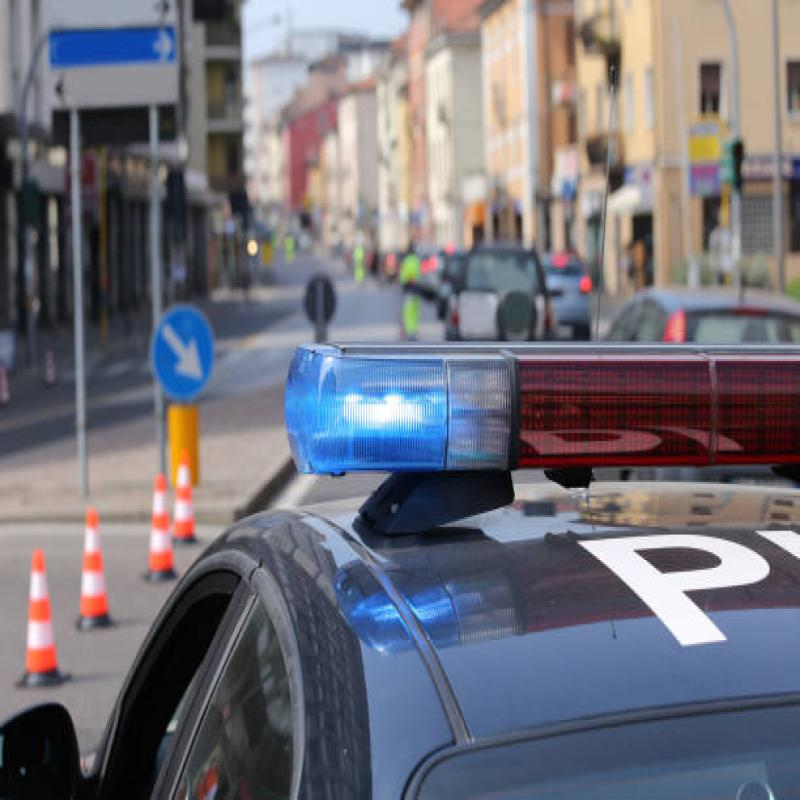AmbulanceSiren: (280, 330, 800, 537)
